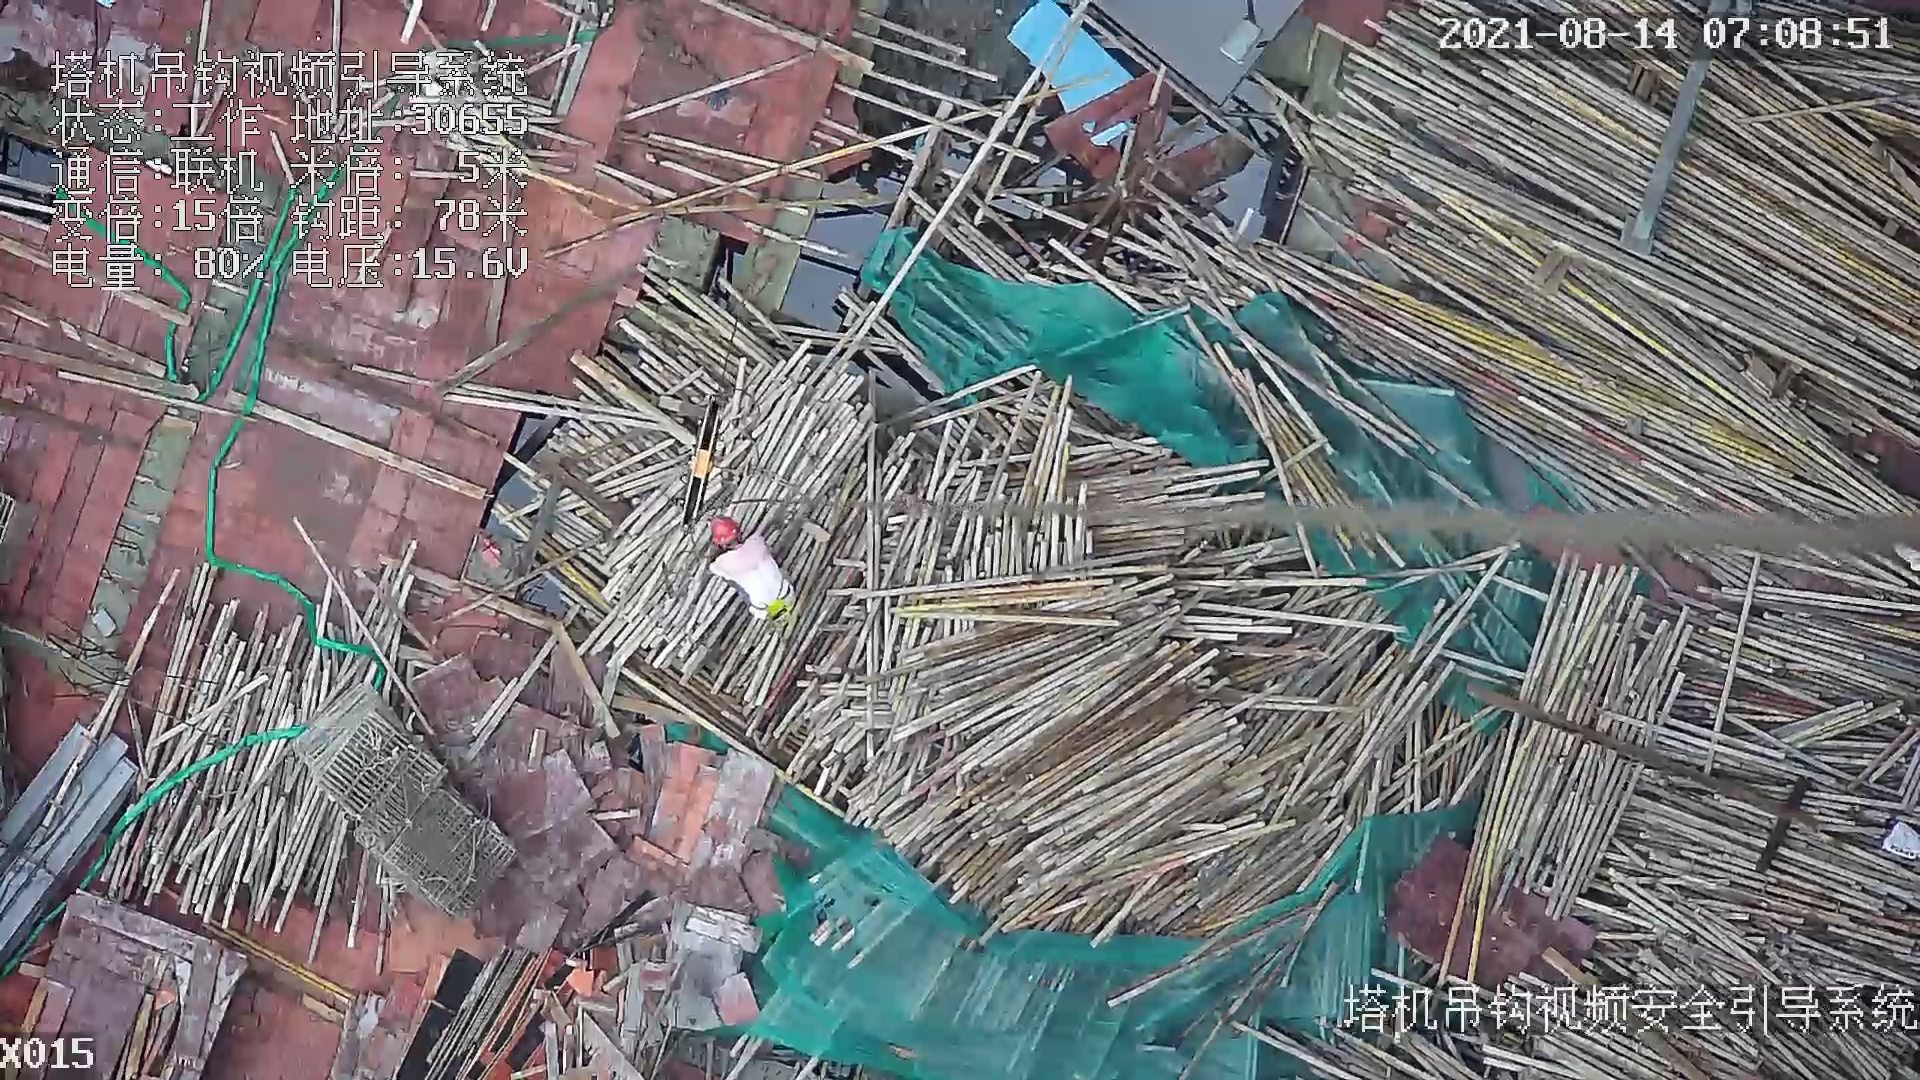helmet: (707, 515, 742, 550)
hook: (681, 399, 720, 537)
person: (714, 518, 795, 617)
